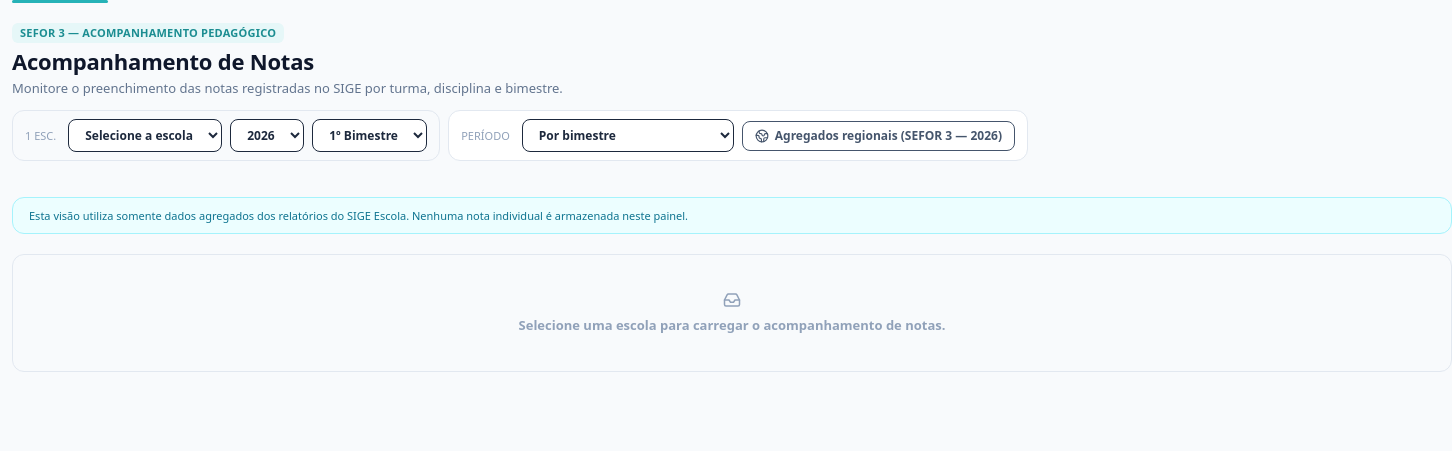
NotasView › falha de leitura de turmas (seção 2 do code review do PR #17) › falha ao carregar turmas nunca restaura SEED_TURMAS
This screenshot has width=1452, height=451.
Select "EEM Diva Cabral" in the dropdown named "Escola" at coordinates (145, 136), box [68, 119, 222, 152]
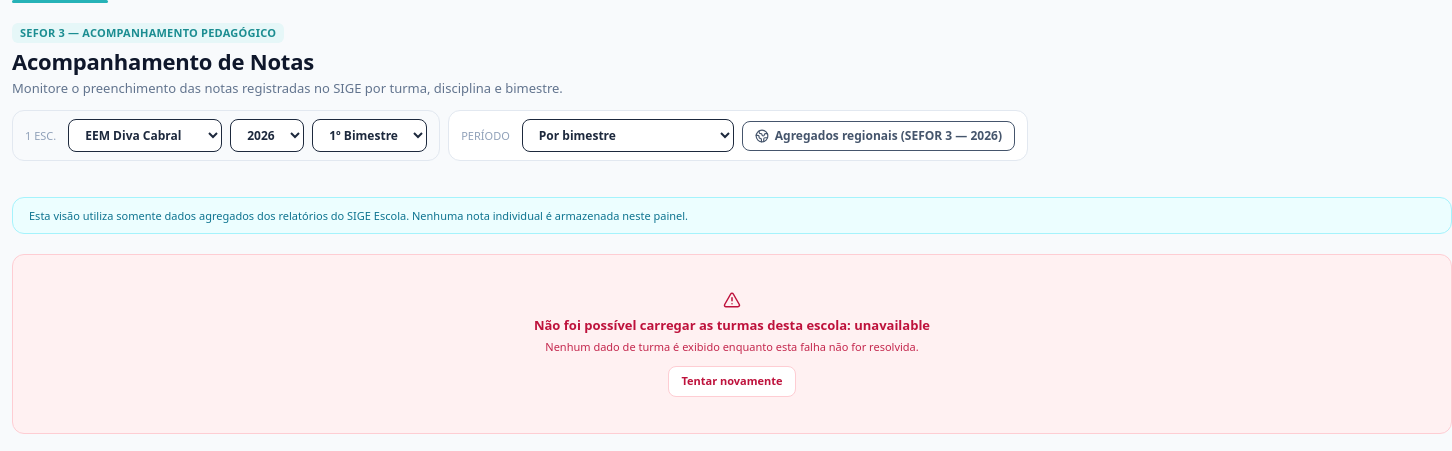
Now the text "Não foi possível carregar as turmas desta escola" is shown, box [534, 316, 930, 334]
